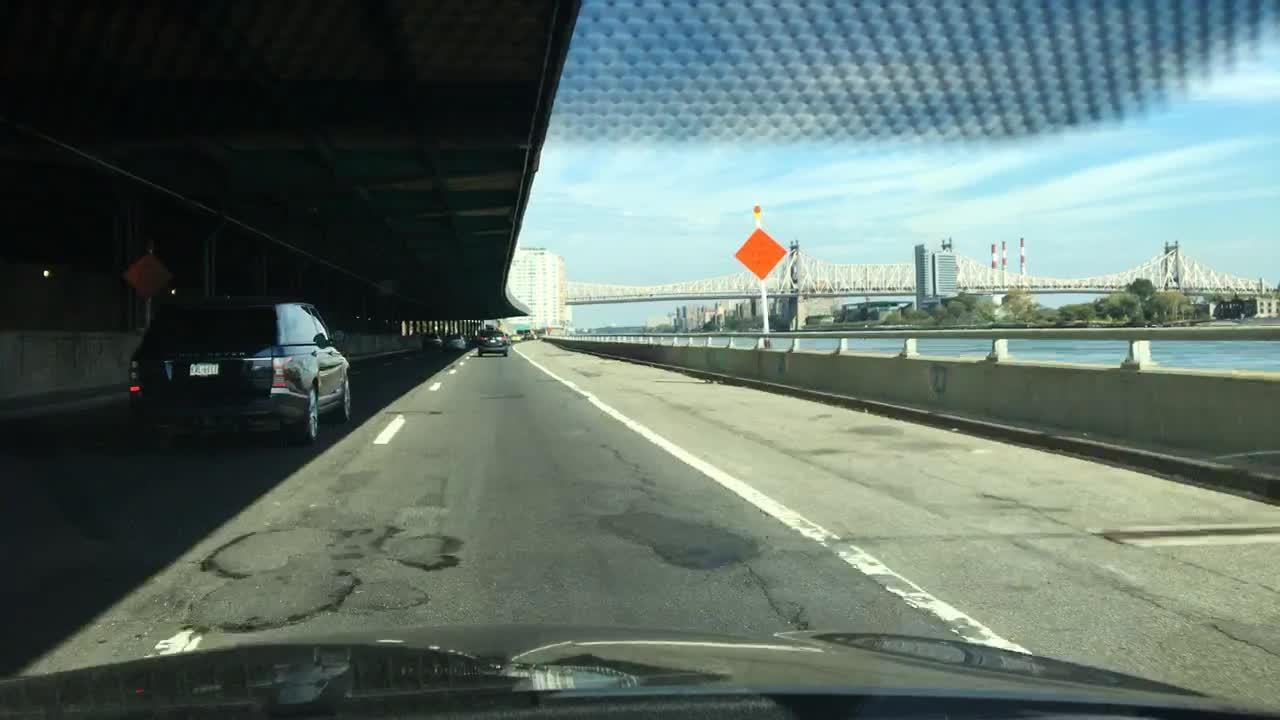range rover: (160, 346, 265, 362)
